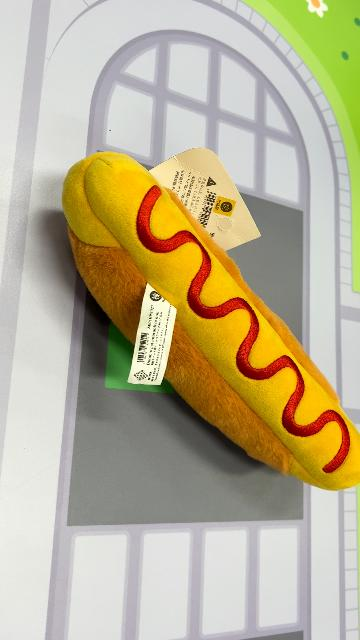hotdog: (62, 150, 358, 492)
